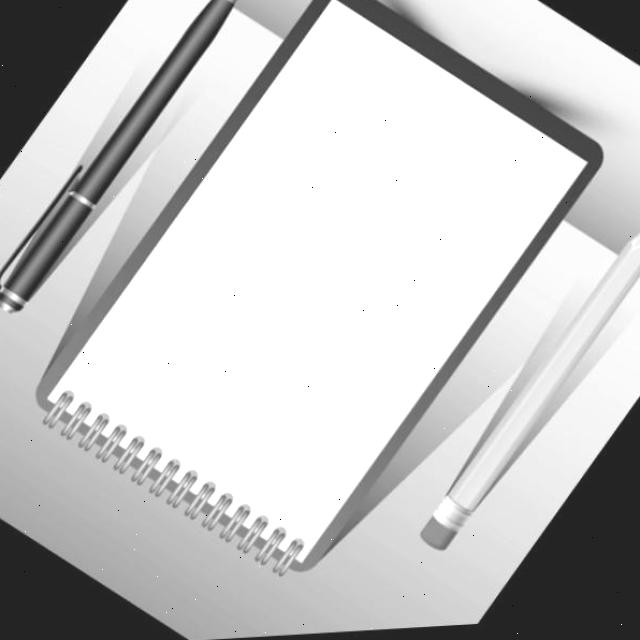pencil: (0, 0, 264, 319), (398, 206, 640, 546)
